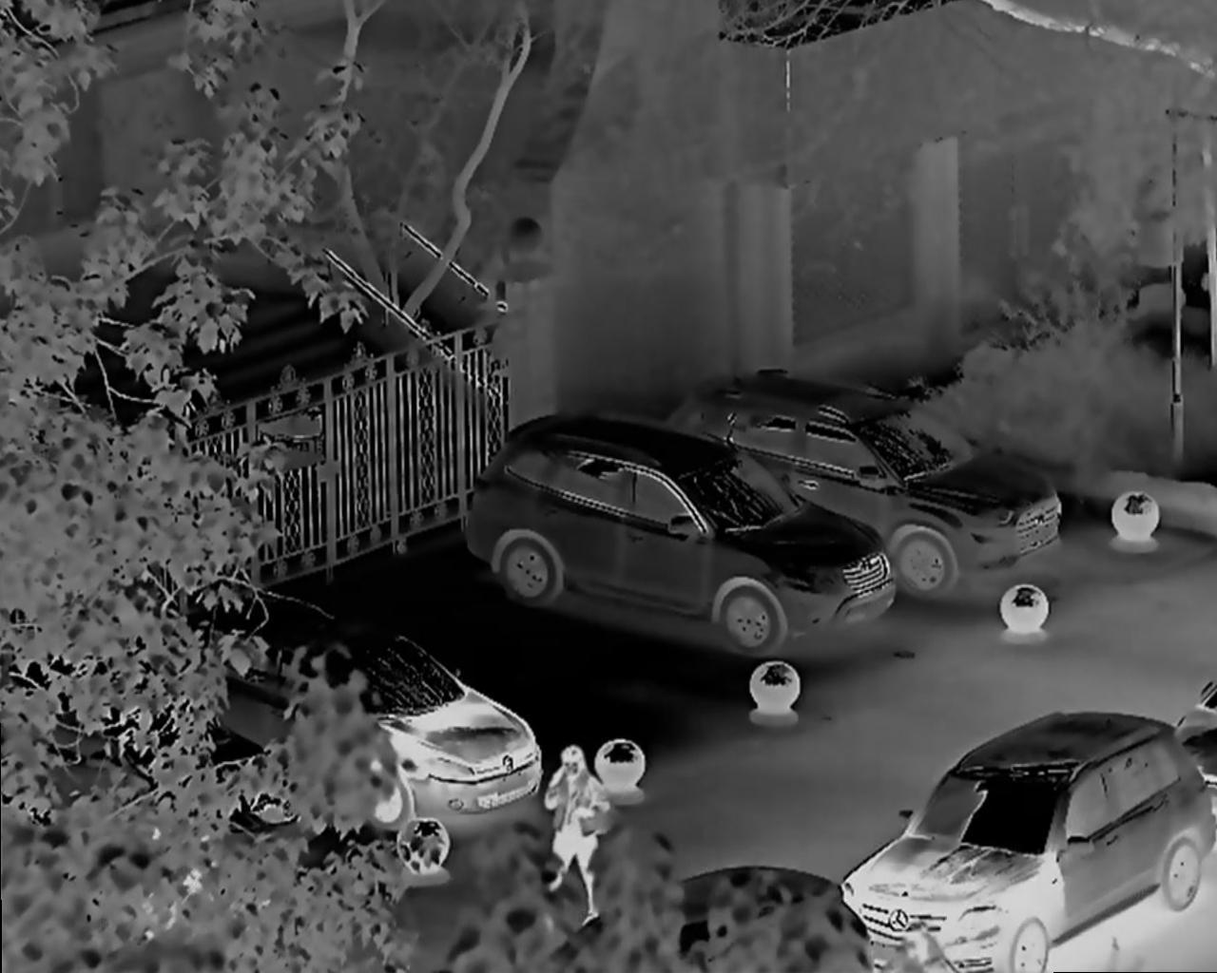person: (537, 733, 615, 911)
